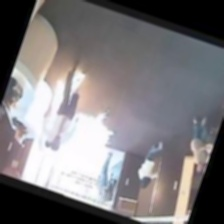fire: (6, 55, 141, 207)
